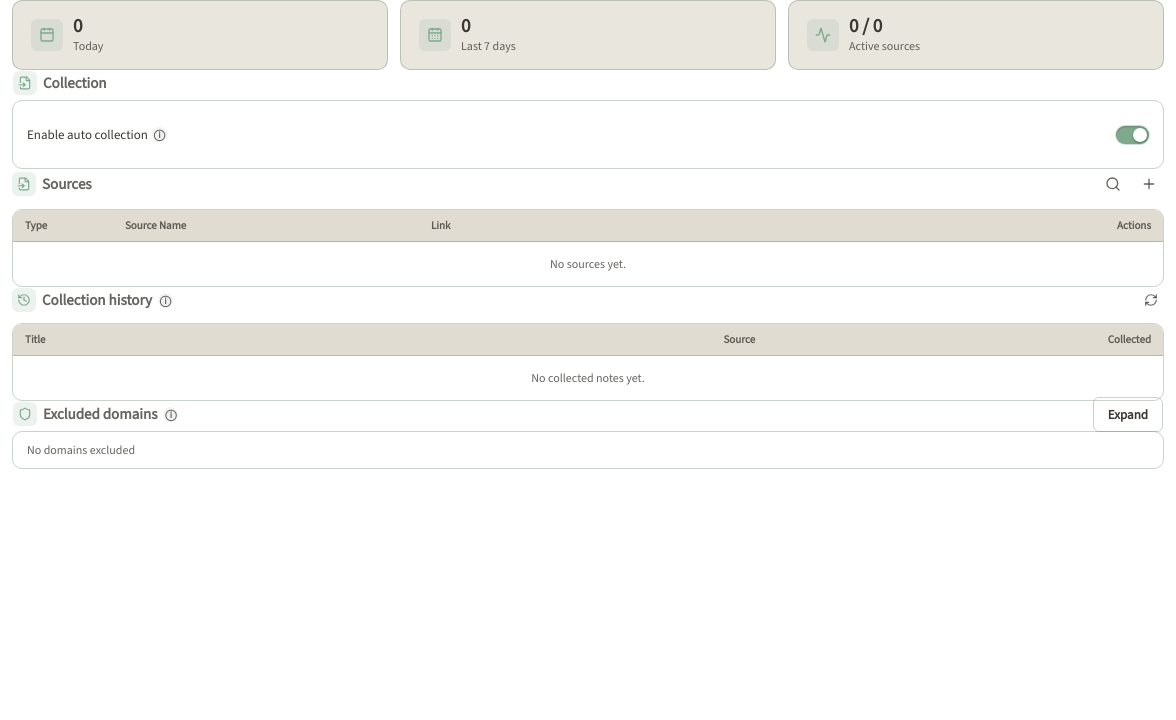
Test: CollectSection › local source detection (W8, PLAN-2026-09-04-local-import) › shows the empty-detection line when no candidates come back
Click the button with test id "collect-detect-btn". click: (1113, 184)
box: 1098,169 -> 1128,199
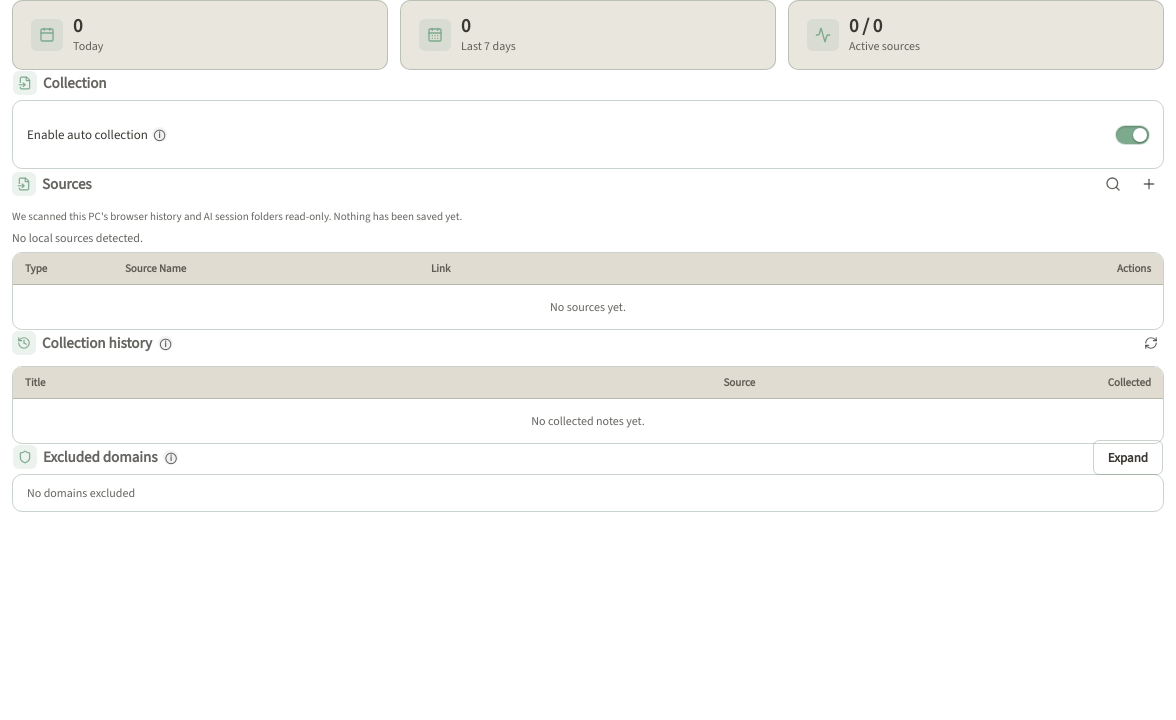
Check: the text "No local sources detected." is shown, box 12,230 -> 143,246
